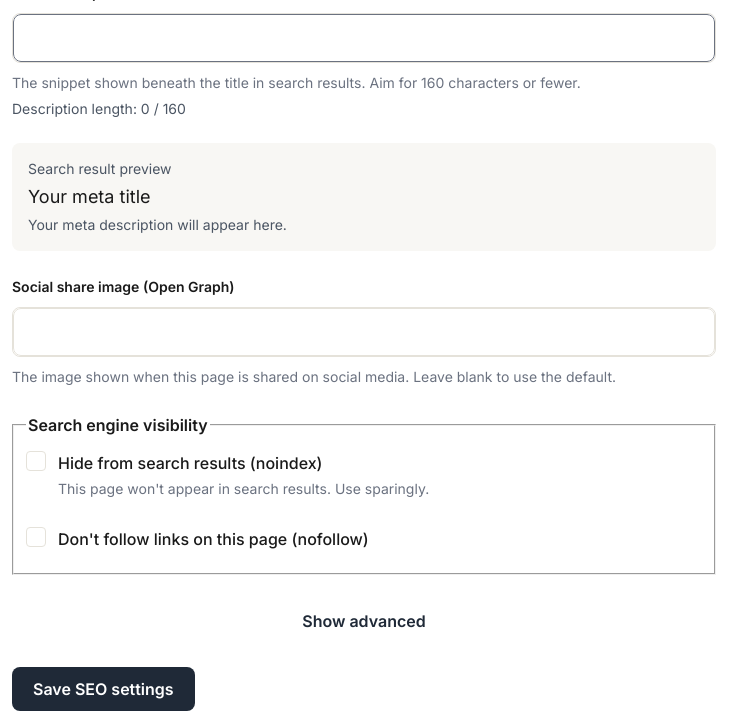
Scenario: SeoMetadataEditor › reveals the canonical URL only after opening Advanced
This screenshot has width=736, height=711.
(page scrolled)
Expected: the field labelled "canonical url" is not shown
Click the button "Show advanced": (364, 621) [12, 599, 716, 643]
(page scrolled)
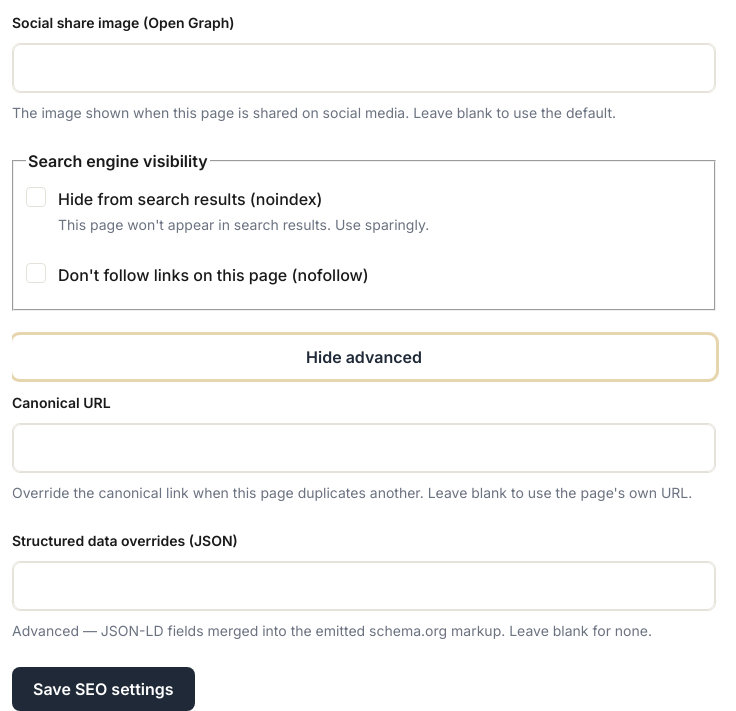
Expected: the field labelled "Canonical URL" is shown, [13, 424, 715, 472]
